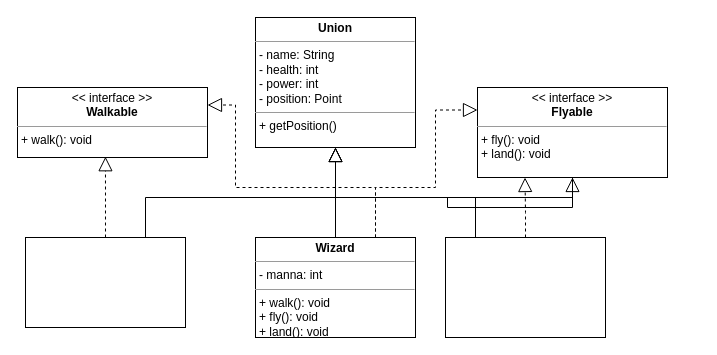
Some shapes in this 717 by 355 pixel diagram are drawn without their labels. Each missing label, with the box of its shape:
Dragon - fire: int + fly(): void + land(): void: (444, 236, 606, 338)
Knight - armour: int + walk(): void: (24, 236, 186, 328)
